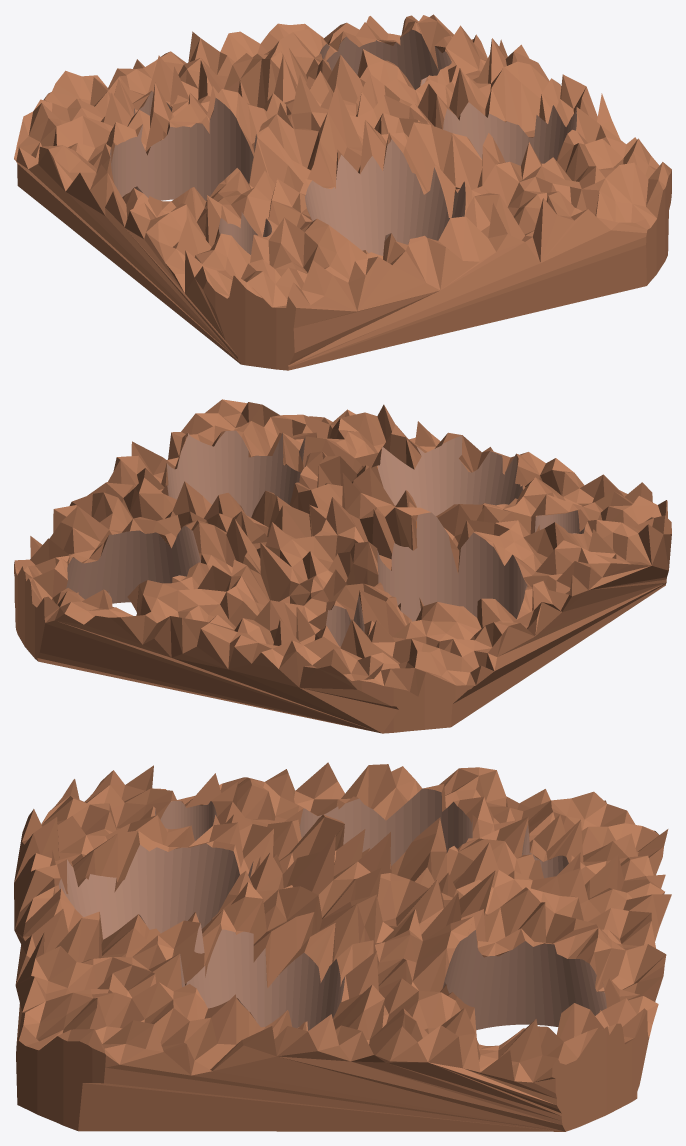
The picture shows the model from 3 angles, top to bottom: view 1: azimuth 30°, elevation 25°; view 2: azimuth 150°, elevation 25°; view 3: azimuth 270°, elevation 25°; orthographic projection. The views are drawn at different scales.
Visible parts, largest first — view 1: Cube; view 2: Cube; view 3: Cube.
Boxes of the visible parts, x1,y1,x2,y2 form: Cube: (14, 14, 671, 370); Cube: (14, 399, 671, 733); Cube: (14, 762, 671, 1131).
Size of the model in its own units: 2.03 by 0.601 by 2.08.
